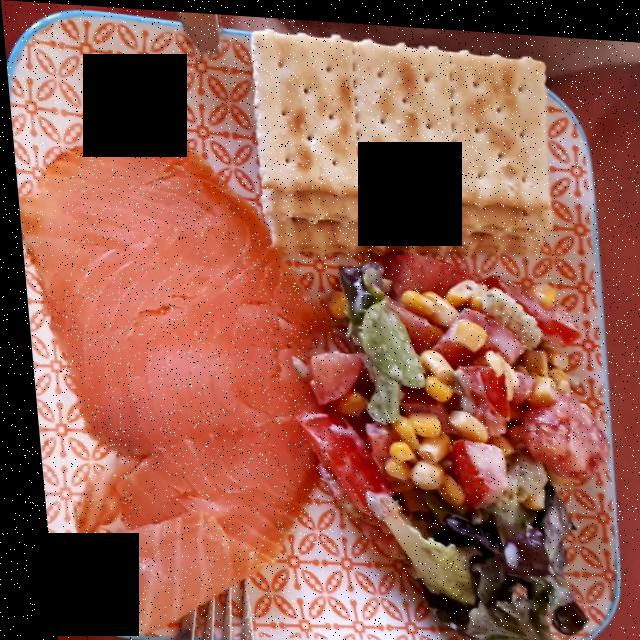corn: (378, 291, 560, 493)
crackers: (253, 36, 549, 257)
salad-leaf-salad-green: (349, 261, 569, 640)
salmon: (22, 126, 320, 625)
tomato-raw: (301, 234, 594, 501)
